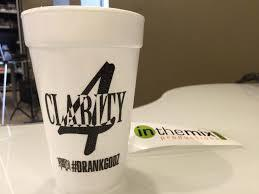Plastic cup: (16, 8, 141, 187)
